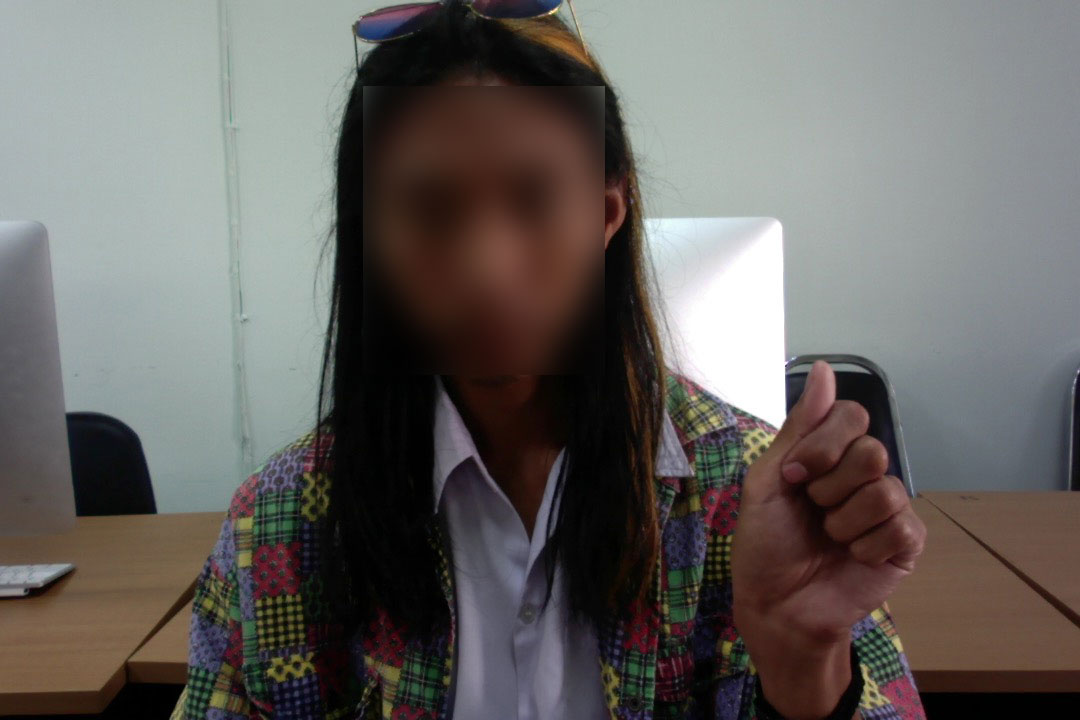or: (712, 351, 937, 645)
